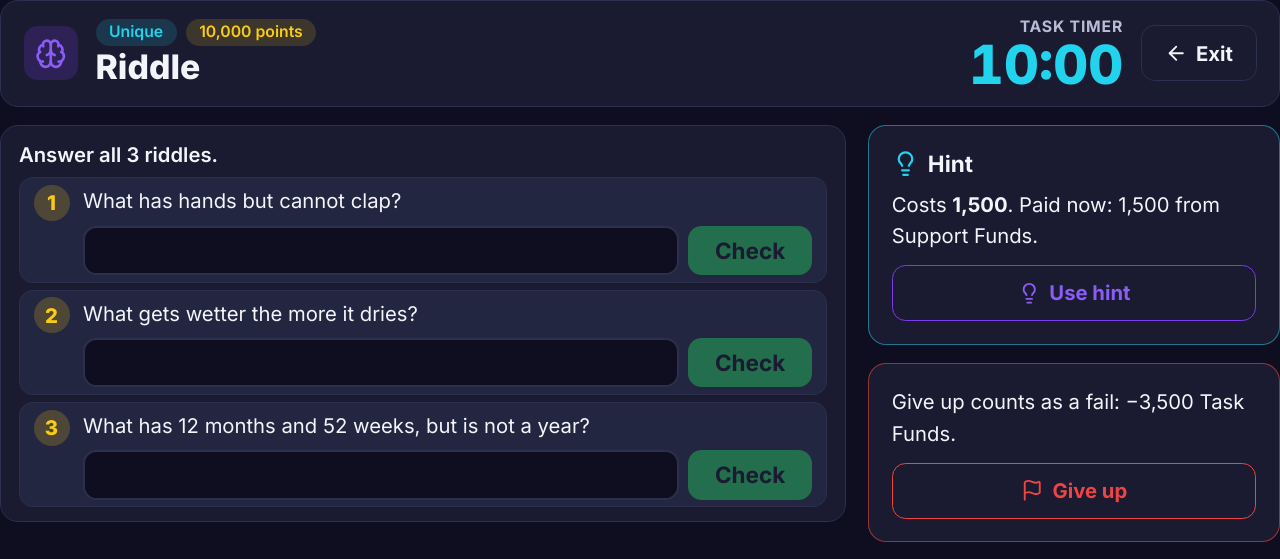
Test: Riddle › checks one riddle at a time and says when an answer is not right
Check: the text "What has hands but cannot clap?" is shown, box top-left (83, 188), bottom-right (401, 213)
Check: the number of buttons "Check" is 3, box top-left (688, 226), bottom-right (812, 275); top-left (688, 338), bottom-right (812, 387); top-left (688, 450), bottom-right (812, 500)
In the field named "Answer to riddle 2": (381, 363) top-left (83, 338), bottom-right (679, 387), type "A sponge"
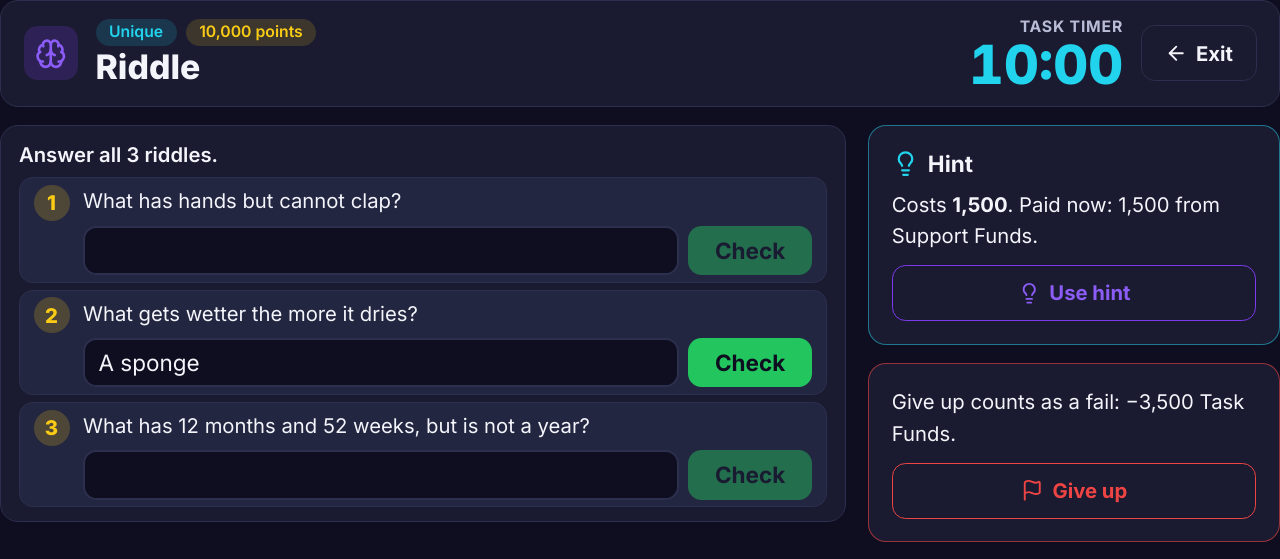
Click the 2nd button "Check": (750, 363) top-left (688, 338), bottom-right (812, 387)
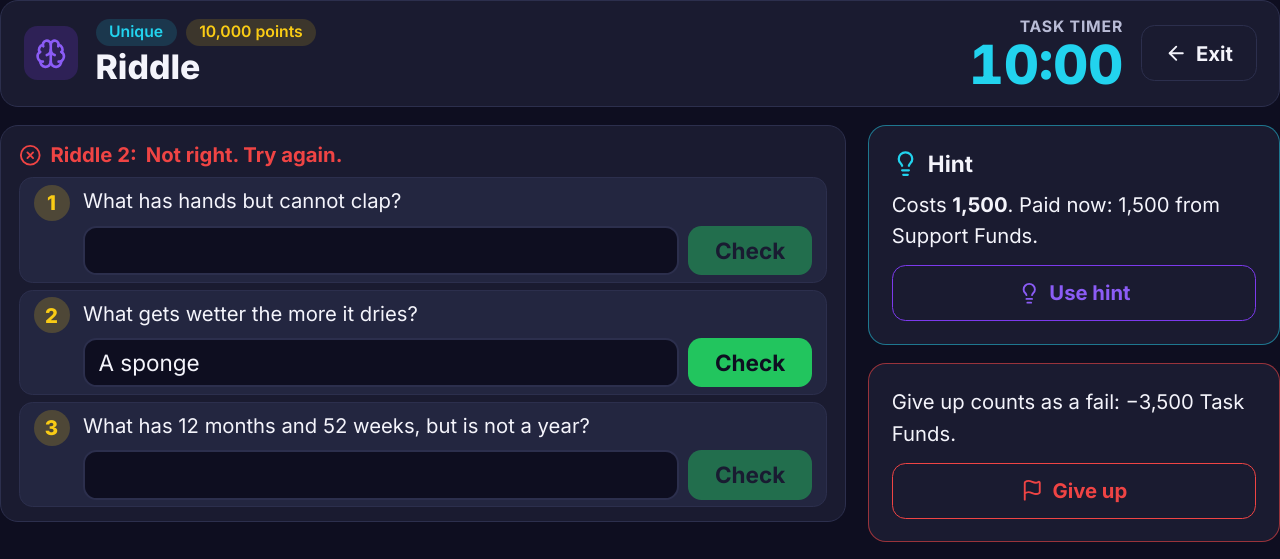
Check: the text "Not right. Try again." is shown, box top-left (146, 139), bottom-right (342, 170)
